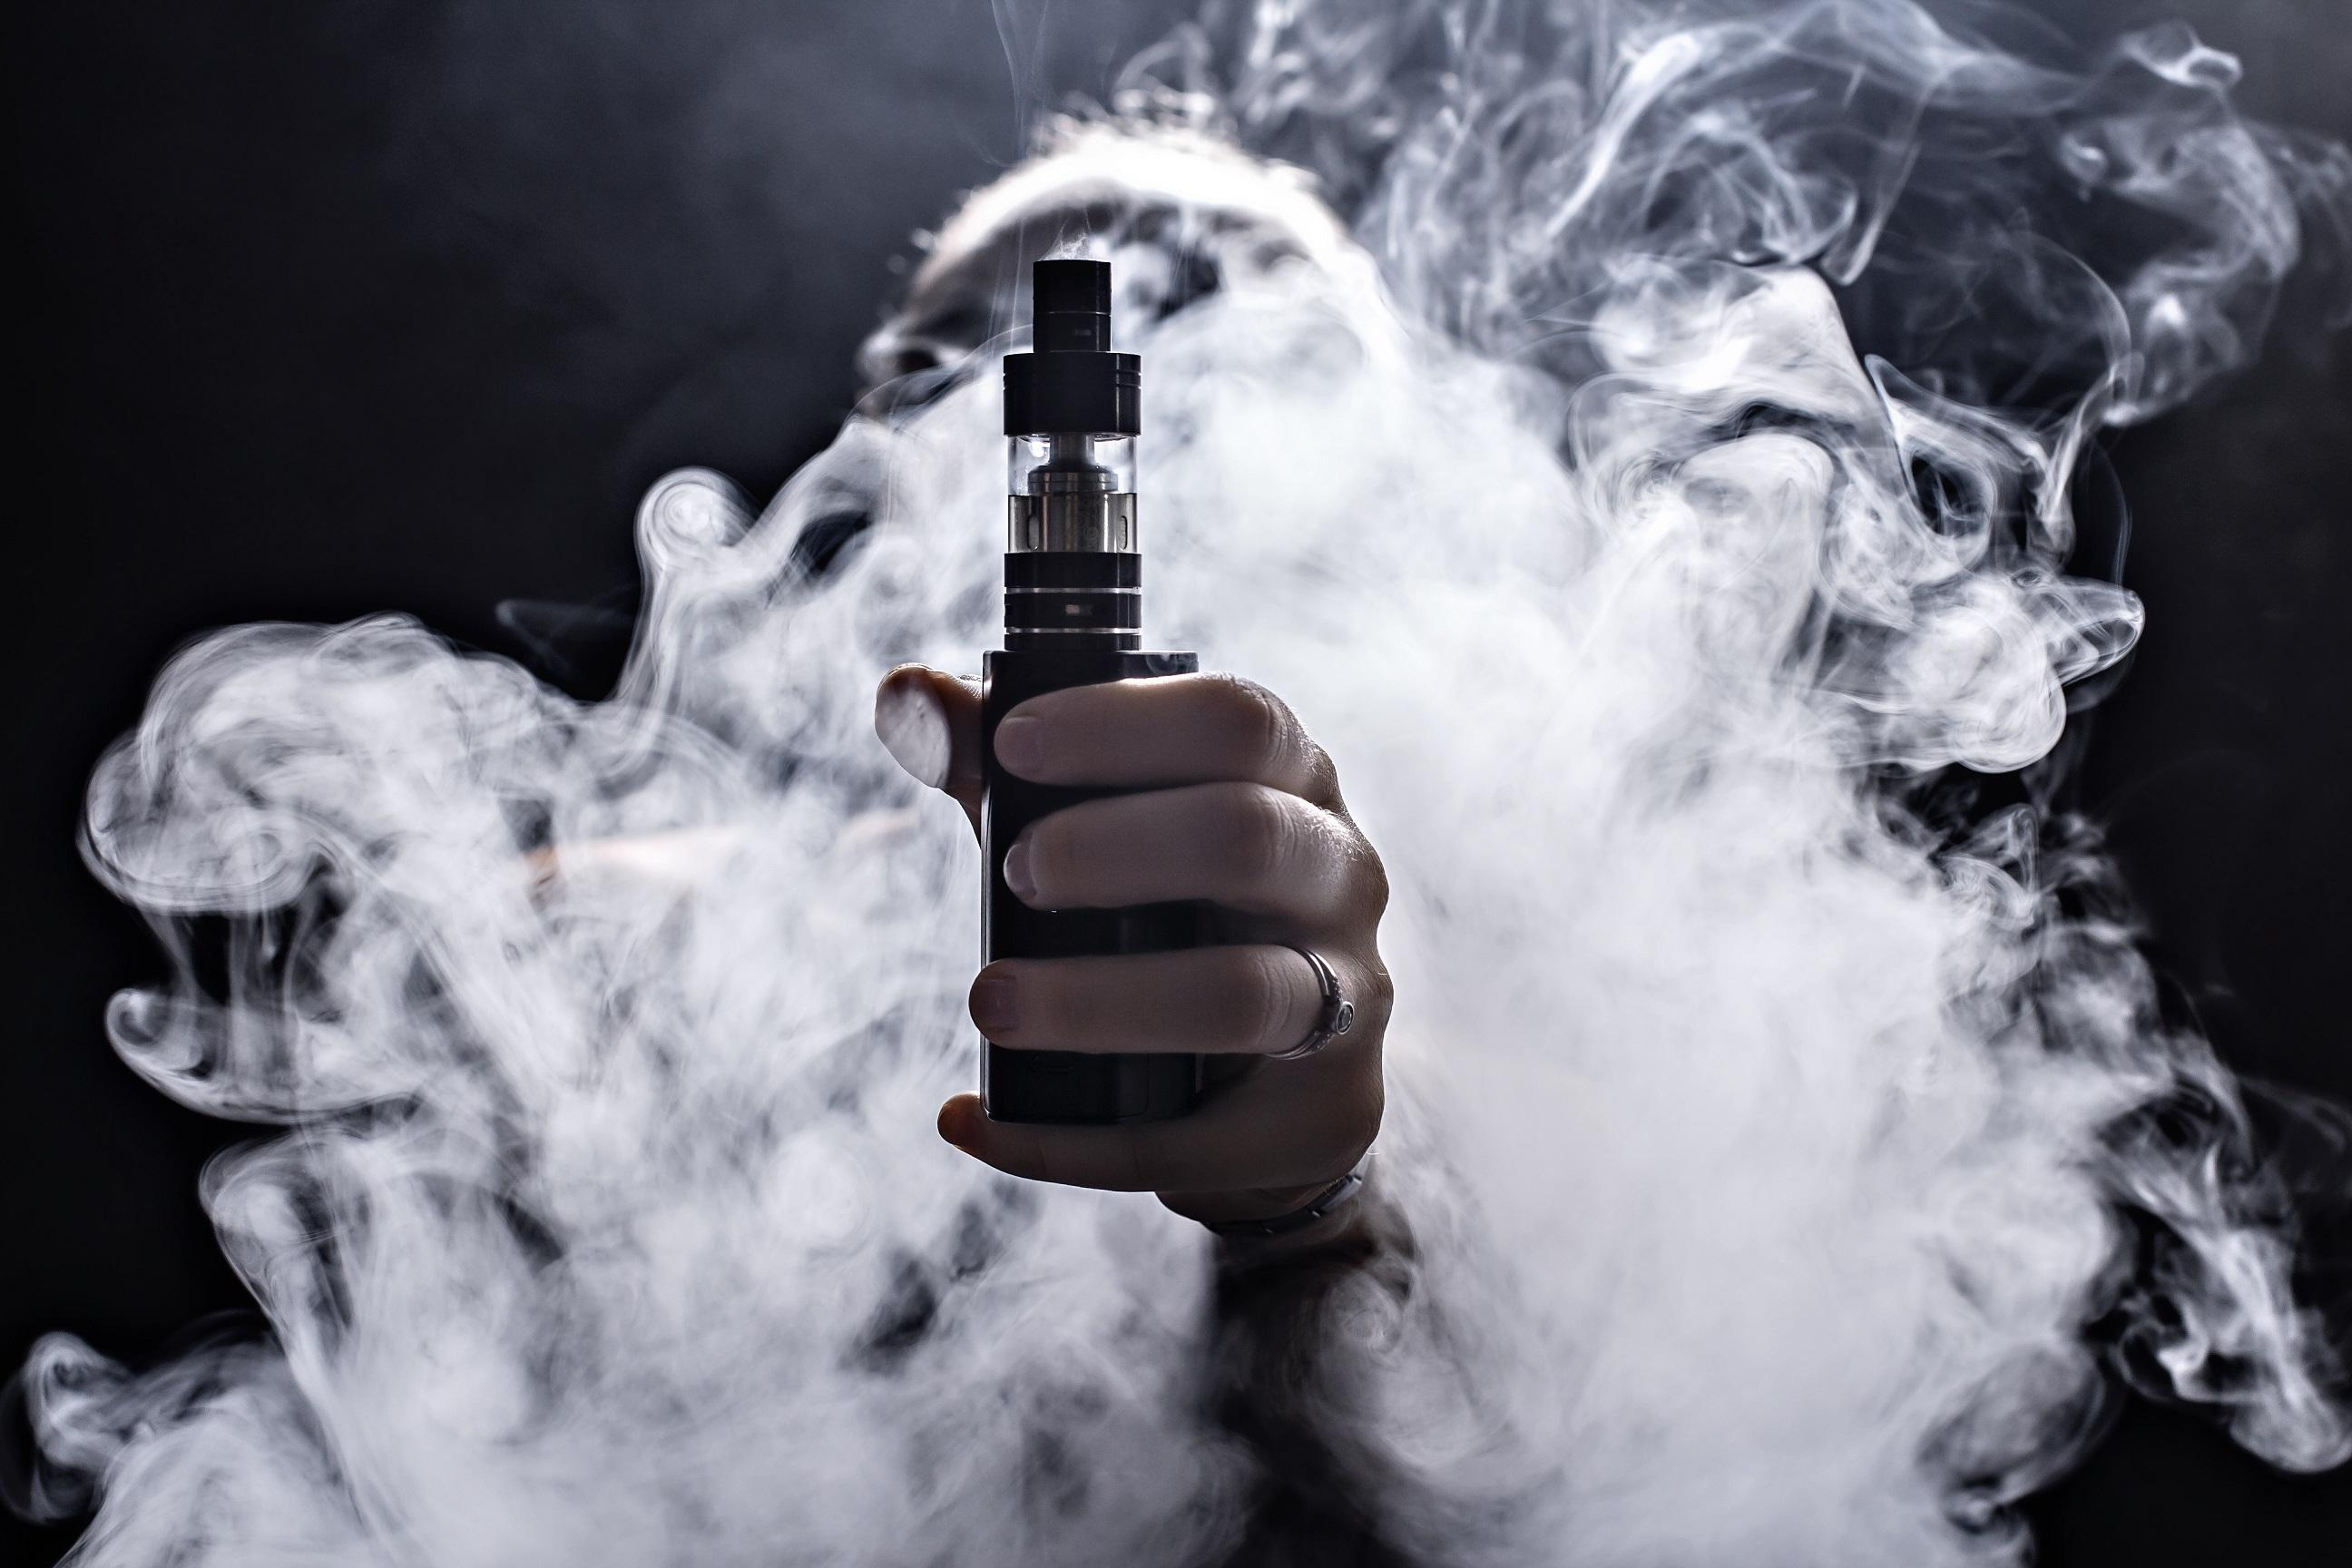Vape: (964, 257, 1211, 1129)
